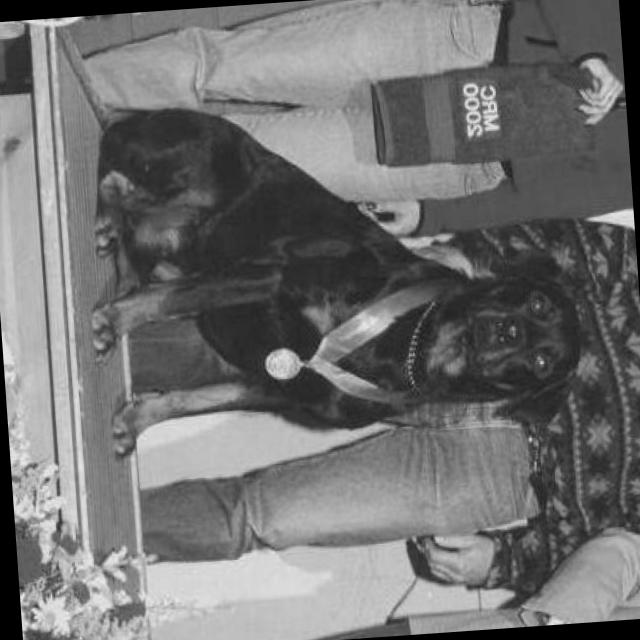sitting: (71, 72, 590, 468)
